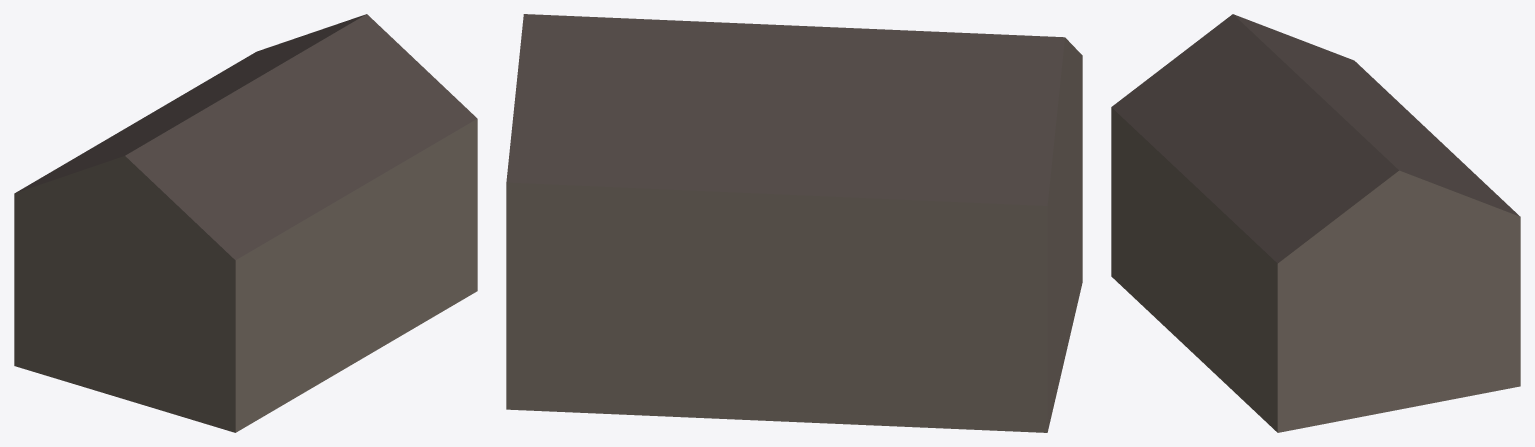
The picture shows the model from 3 angles, left to right: view 1: azimuth 30°, elevation 25°; view 2: azimuth 150°, elevation 25°; view 3: azimuth 270°, elevation 25°; orthographic projection. The views are drawn at different scales.
Parts seen in each view (by area): view 1: HP-w859447913; view 2: HP-w859447913; view 3: HP-w859447913.
Boxes of the visible parts, bbox=[...] form: HP-w859447913: bbox=[14, 14, 477, 432]; HP-w859447913: bbox=[506, 14, 1082, 432]; HP-w859447913: bbox=[1111, 14, 1520, 432].
Size of the model in its own units: 23.14 by 12.71 by 19.71.
